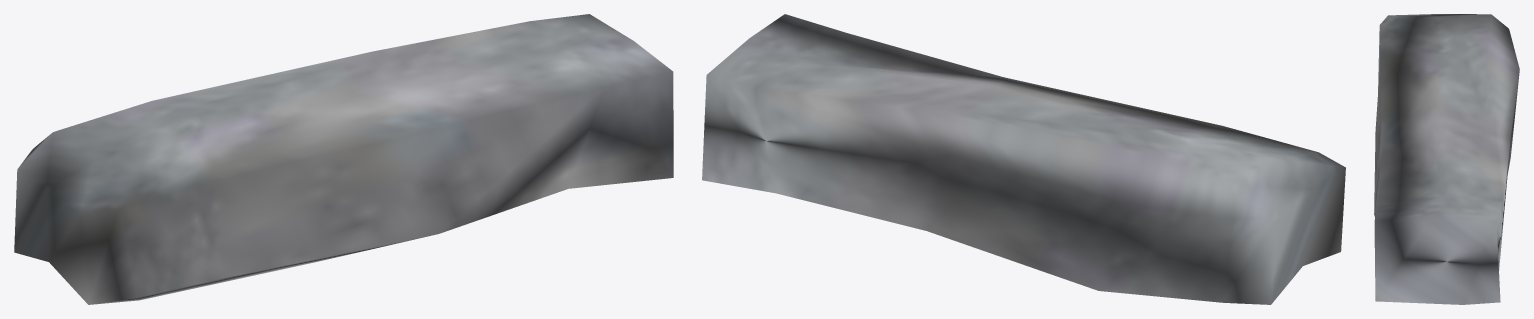
The model's file is stoneC_lr.obj.
3 renders of one model, left to right at view 1: azimuth 30°, elevation 25°; view 2: azimuth 150°, elevation 25°; view 3: azimuth 270°, elevation 25°, orthographic. The views are drawn at different scales.
Size of the model in its own units: 2.01 by 0.4496 by 0.5771.
1 material, 1 textured.
